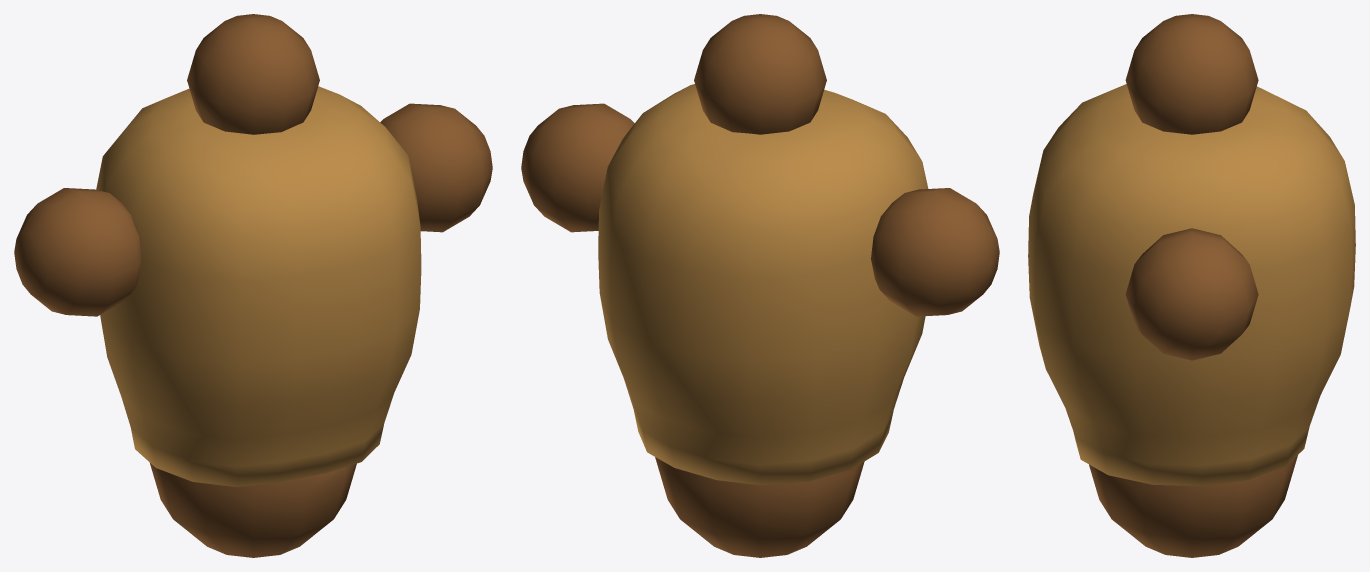
The model's file is body.dae.
3 renders of one model, left to right at view 1: azimuth 30°, elevation 25°; view 2: azimuth 150°, elevation 25°; view 3: azimuth 270°, elevation 25°, orthographic.
Parts seen in each view (by area): view 1: Thorax_Skin, Shoulder_R_Skin, Neck_Skin, Belly_Skin, Shoulder_L_Skin; view 2: Thorax_Skin, Shoulder_R_Skin, Neck_Skin, Belly_Skin, Shoulder_L_Skin; view 3: Thorax_Skin, Shoulder_L_Skin, Neck_Skin, Belly_Skin.
Boxes of the visible parts, x1=… form: Thorax_Skin: x1=96, y1=86, x2=421, y2=487; Shoulder_R_Skin: x1=14, y1=188, x2=141, y2=316; Neck_Skin: x1=187, y1=14, x2=319, y2=134; Belly_Skin: x1=150, y1=463, x2=356, y2=557; Shoulder_L_Skin: x1=380, y1=103, x2=492, y2=232; Thorax_Skin: x1=598, y1=84, x2=928, y2=485; Shoulder_R_Skin: x1=871, y1=188, x2=999, y2=316; Neck_Skin: x1=694, y1=14, x2=826, y2=134; Belly_Skin: x1=655, y1=457, x2=864, y2=557; Shoulder_L_Skin: x1=521, y1=103, x2=634, y2=232; Thorax_Skin: x1=1028, y1=84, x2=1355, y2=486; Shoulder_L_Skin: x1=1125, y1=228, x2=1258, y2=360; Neck_Skin: x1=1125, y1=14, x2=1258, y2=134; Belly_Skin: x1=1089, y1=455, x2=1297, y2=557.
Bounding box in the file's own units: 15.75 × 9.7 × 17.25.
